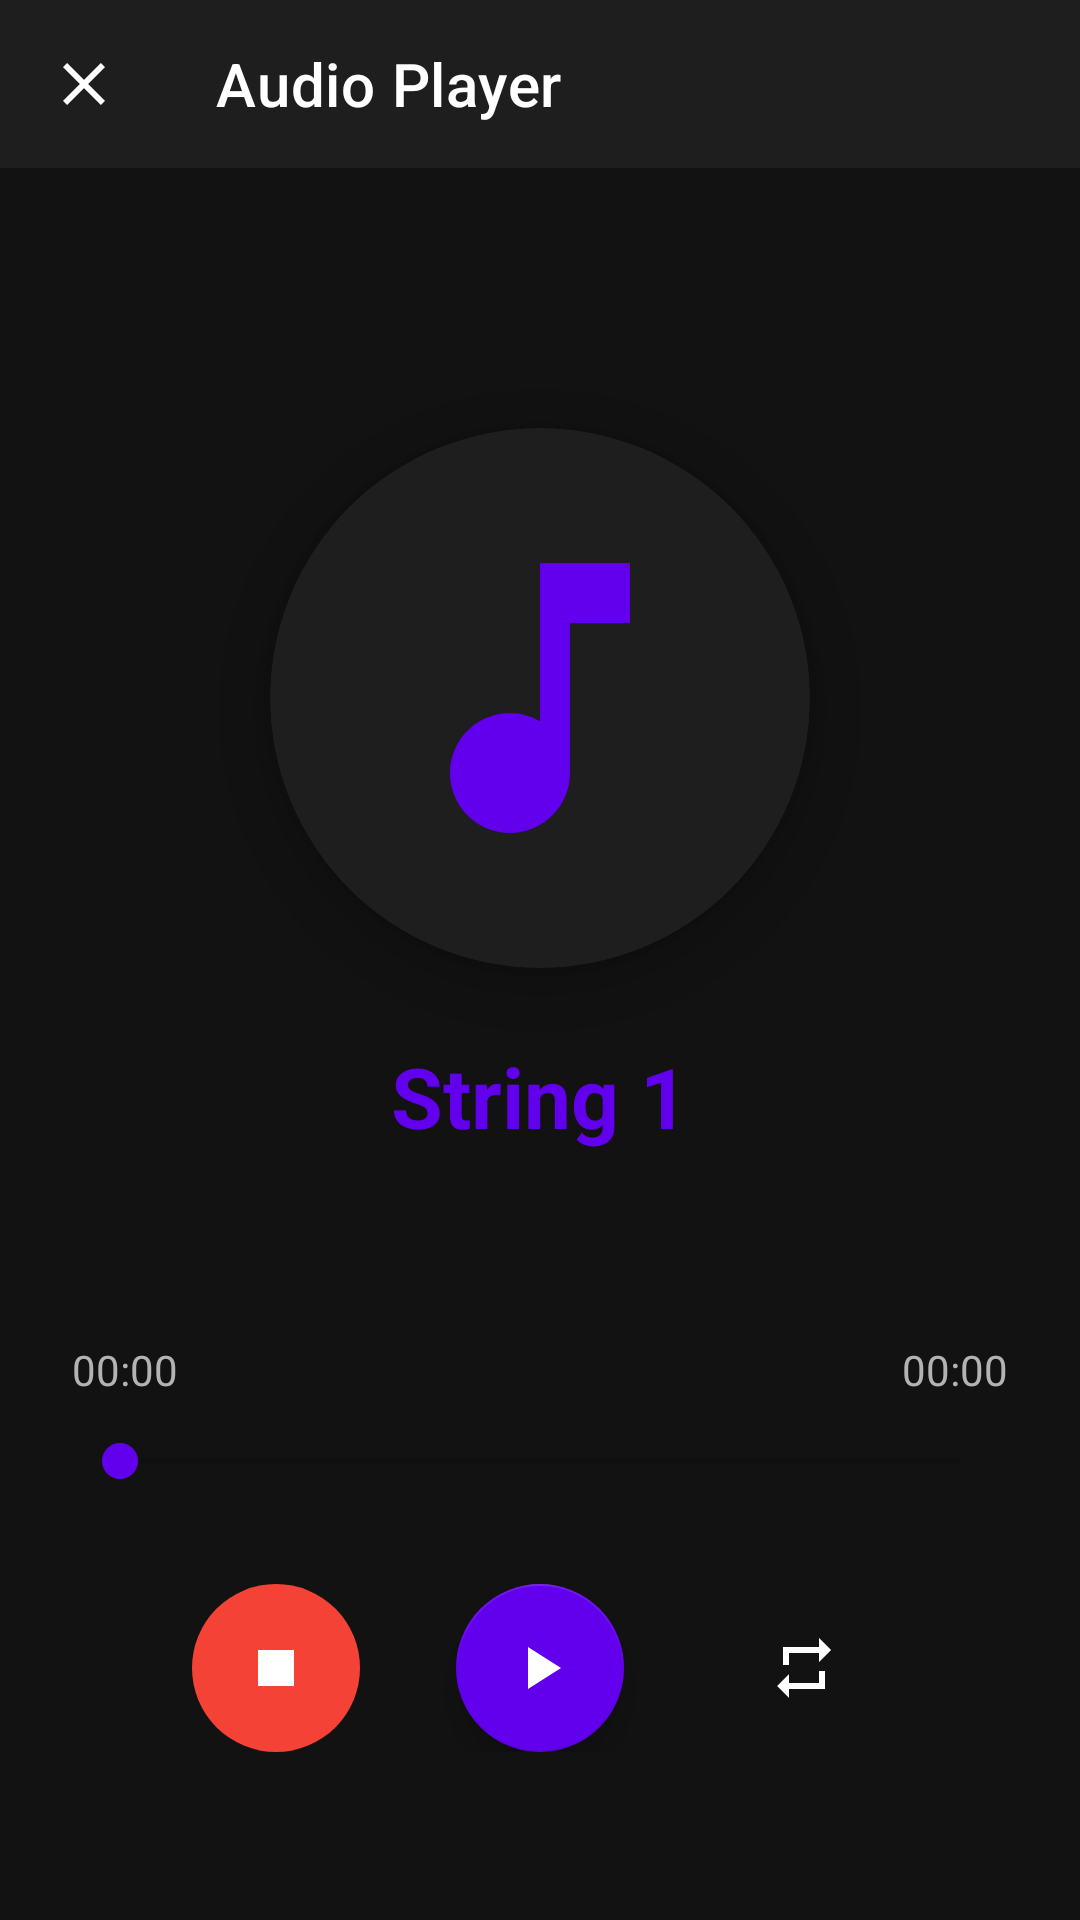

Locate icon controls on the screen. Image size 1080*1920, boxes as (x1, y1, x2, y2).
Album Art: (450, 563, 630, 833)
play arrow: (456, 1584, 624, 1752)
repeat: (777, 1638, 831, 1698)
stop: (192, 1584, 360, 1752)
